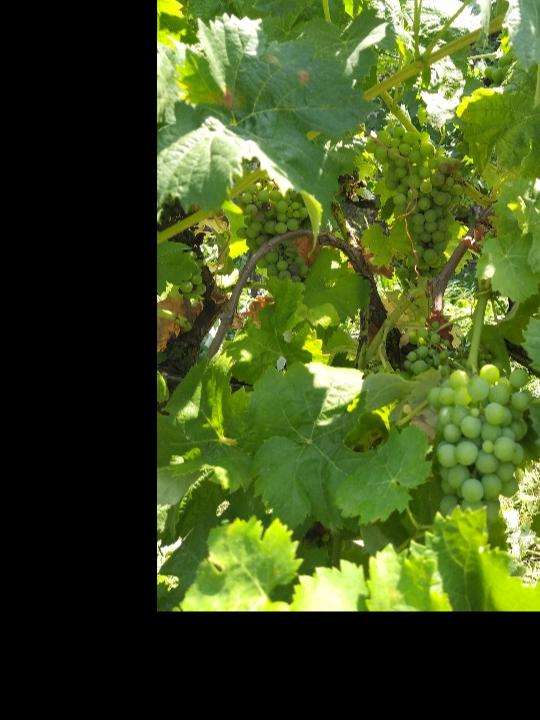grape: (424, 361, 533, 526), (363, 123, 466, 281), (235, 176, 312, 293)
